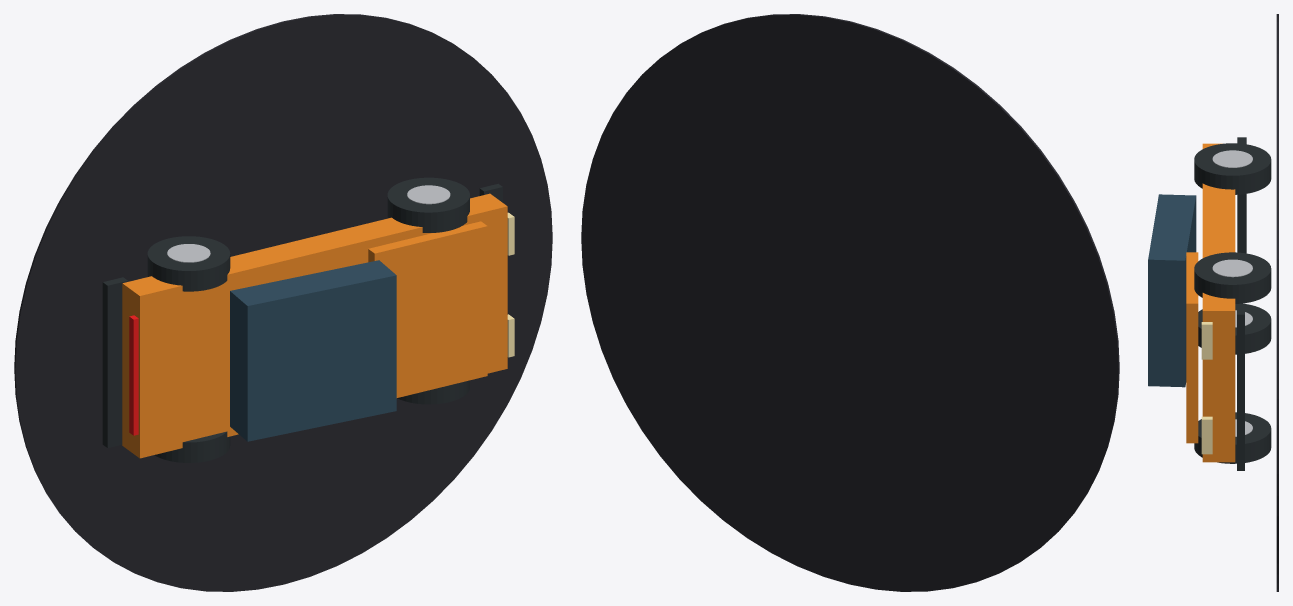
File: mclaren-750s.glb
3 renders of one model, left to right at view 1: azimuth 30°, elevation 25°; view 2: azimuth 150°, elevation 25°; view 3: azimuth 270°, elevation 25°, orthographic. The views are drawn at different scales.
Visible parts, largest first — view 1: world; view 2: world; view 3: world.
Part boxes in pixels (left/top/right/bottom): world: left=14, top=14, right=552, bottom=591; world: left=581, top=14, right=1119, bottom=591; world: left=1148, top=14, right=1278, bottom=591.
Size of the model in its own units: 6.3 by 6.3 by 1.42.
